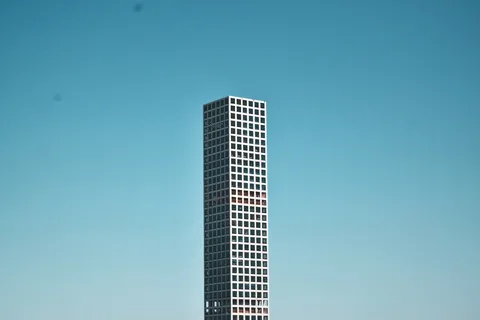high_rise_building: (197, 96, 275, 317)
